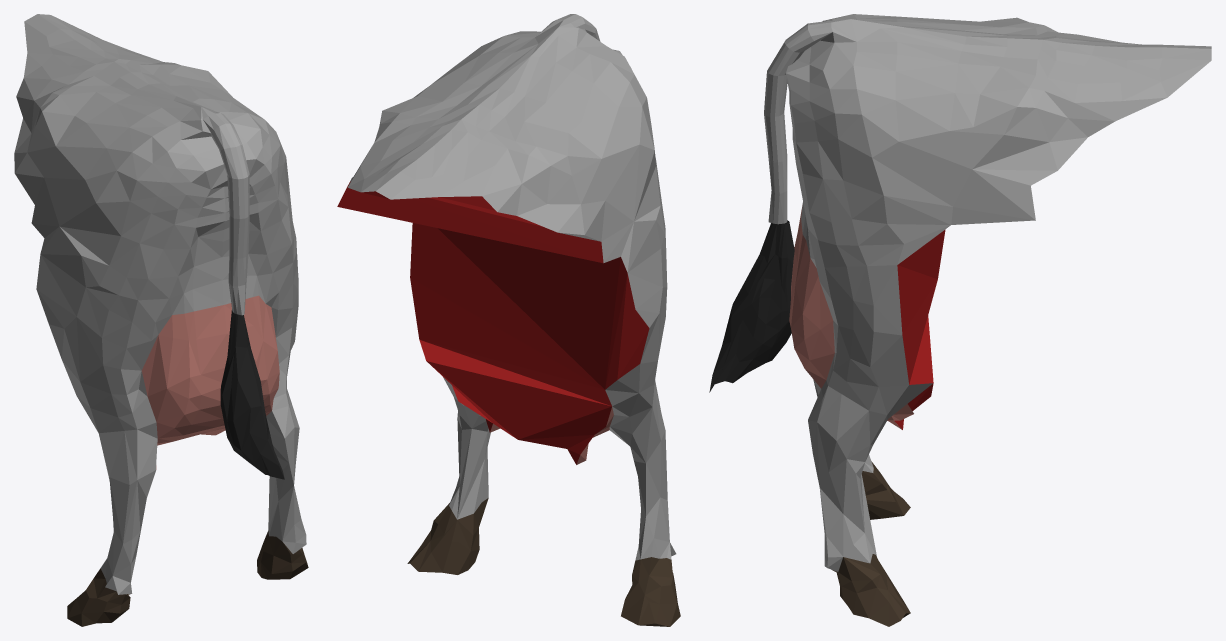
The model's file is cow-part3.obj.
3 renders of one model, left to right at view 1: azimuth 30°, elevation 25°; view 2: azimuth 150°, elevation 25°; view 3: azimuth 270°, elevation 25°, orthographic. The views are drawn at different scales.
Parts seen in each view (by area): view 1: cow.002_cow.004__CowHide1, cow.002_cow.004__CowUdder1, cow_cow.005__CowTail1, cow.002_cow.004__CowHide1.002, cow.002_cow.004__CowHooves1; view 2: cow.002_cow.004__CowHide1, cow.007_cow.007_flesh, cow.002_cow.004__CowHooves1, cow.002_cow.004__CowHide1.002; view 3: cow.002_cow.004__CowHide1, cow.002_cow.004__CowHide1.002, cow_cow.005__CowTail1, cow.002_cow.004__CowHooves1, cow.007_cow.007_flesh, cow.002_cow.004__CowUdder1.
Boxes of the visible parts, x1=… form: cow.002_cow.004__CowHide1: x1=14, y1=14, x2=306, y2=594; cow.002_cow.004__CowUdder1: x1=141, y1=295, x2=279, y2=469; cow_cow.005__CowTail1: x1=220, y1=310, x2=284, y2=479; cow.002_cow.004__CowHide1.002: x1=24, y1=15, x2=249, y2=315; cow.002_cow.004__CowHooves1: x1=67, y1=531, x2=308, y2=626; cow.002_cow.004__CowHide1: x1=348, y1=27, x2=676, y2=560; cow.007_cow.007_flesh: x1=337, y1=181, x2=649, y2=464; cow.002_cow.004__CowHooves1: x1=407, y1=498, x2=680, y2=626; cow.002_cow.004__CowHide1.002: x1=348, y1=14, x2=600, y2=241; cow.002_cow.004__CowHide1: x1=786, y1=14, x2=1211, y2=571; cow.002_cow.004__CowHide1.002: x1=764, y1=19, x2=1210, y2=264; cow_cow.005__CowTail1: x1=709, y1=220, x2=794, y2=392; cow.002_cow.004__CowHooves1: x1=832, y1=461, x2=910, y2=626; cow.007_cow.007_flesh: x1=894, y1=229, x2=945, y2=429; cow.002_cow.004__CowUdder1: x1=789, y1=205, x2=913, y2=429.
Bounding box in the file's own units: 0.4891 × 1 × 0.8309.
